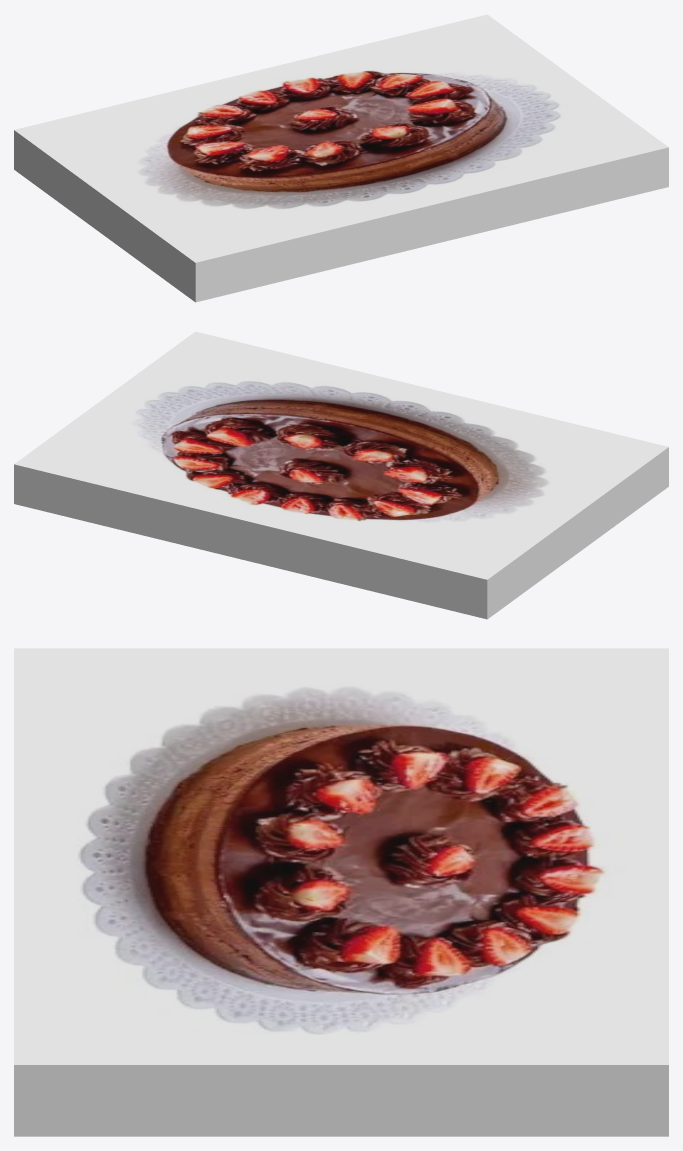
Rendered from tortatrufas.glb.
3 views of the same model, one above another, from view 1: azimuth 30°, elevation 25°; view 2: azimuth 150°, elevation 25°; view 3: azimuth 270°, elevation 25° (orthographic). The views are drawn at different scales.
Bounding box in the file's own units: 0.1 × 0.008 × 0.0664.
1 material, 1 textured.
